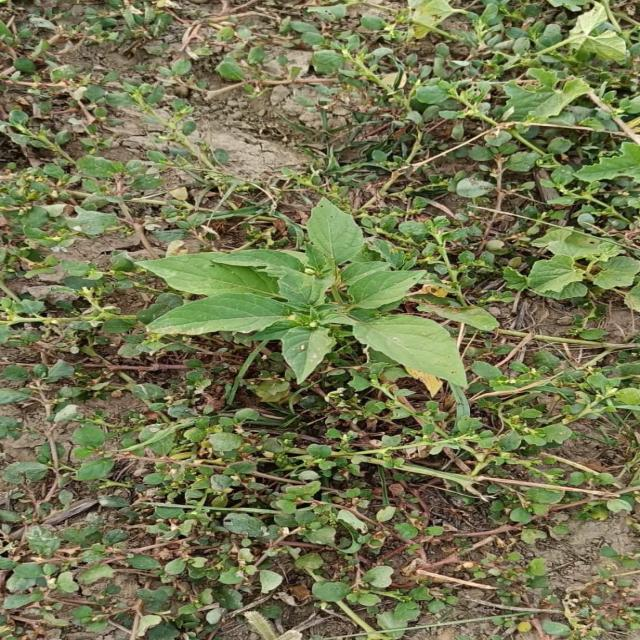weed: (137, 201, 466, 385), (505, 229, 640, 299)
